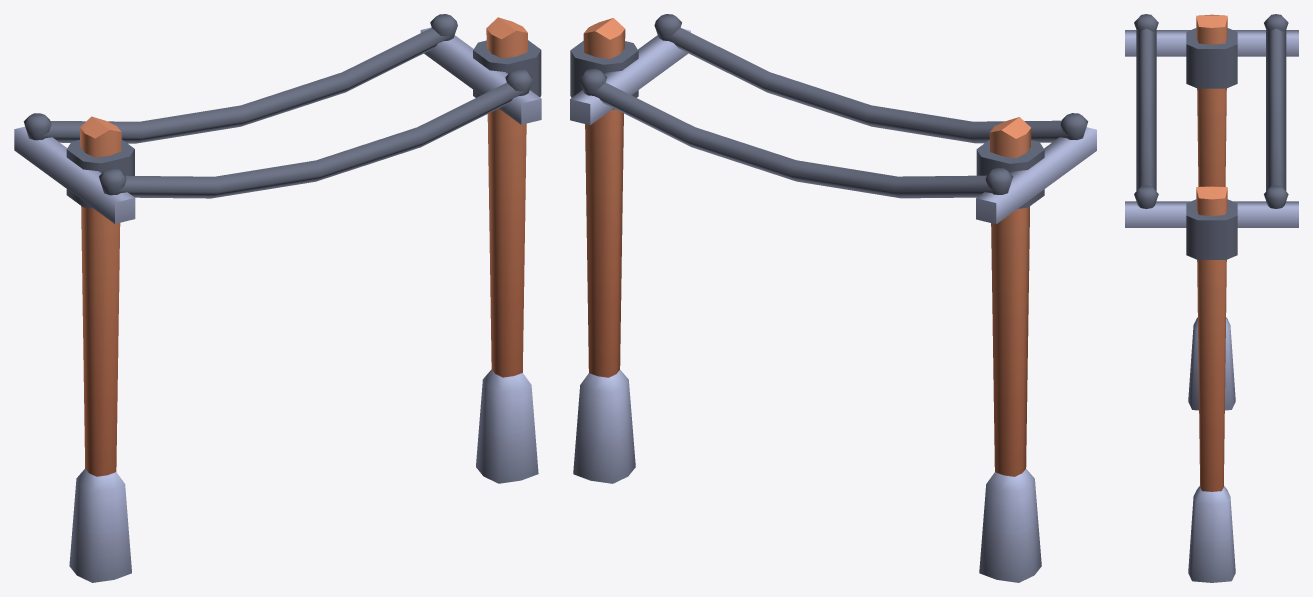
The model's file is electricity-pole.glb.
The picture shows the model from 3 angles, left to right: view 1: azimuth 30°, elevation 25°; view 2: azimuth 150°, elevation 25°; view 3: azimuth 270°, elevation 25°; orthographic projection. The views are drawn at different scales.
Parts seen in each view (by area): view 1: electricity-pole; view 2: electricity-pole; view 3: electricity-pole.
Boxes of the visible parts, <box> form: electricity-pole: <box>14,14,541,582</box>; electricity-pole: <box>570,14,1096,582</box>; electricity-pole: <box>1125,14,1298,582</box>.
Bounding box in the file's own units: 0.5791 × 0.525 × 0.2142.
1 material, 1 textured.
